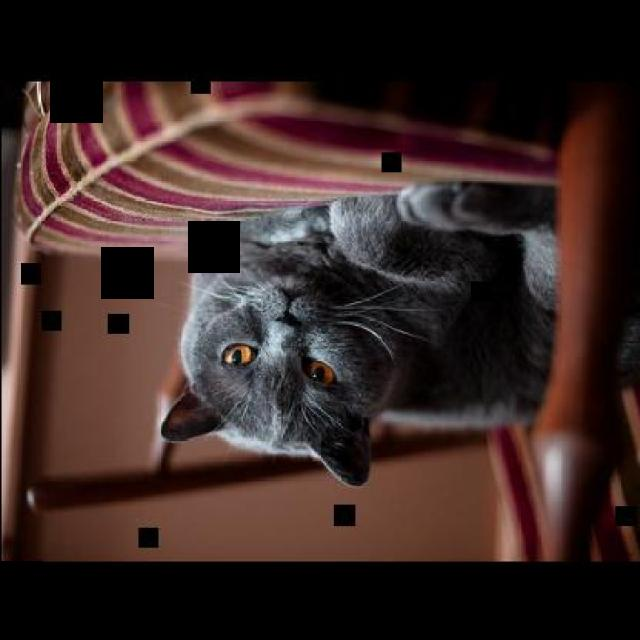unauthorized: (157, 177, 638, 488)
